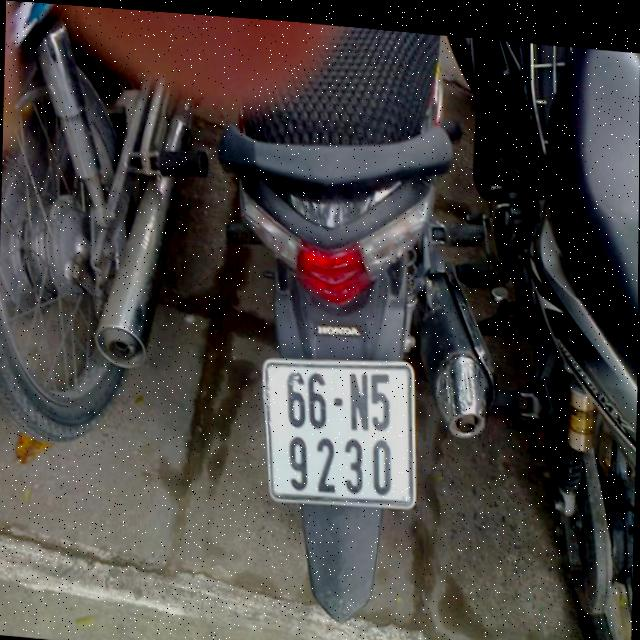motorcycle: (203, 15, 507, 640), (438, 35, 640, 640), (0, 0, 211, 470)
plate: (251, 346, 419, 518)
